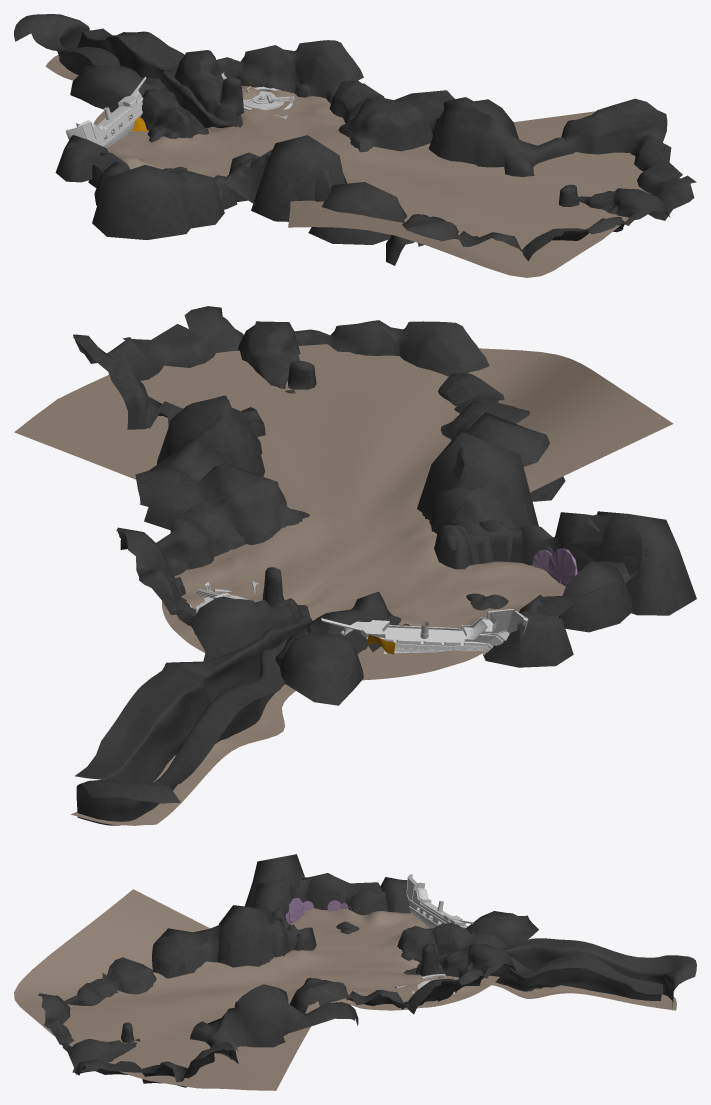
The model's file is EnvironmentMesh_Unwrapped.fbx.
3 views of the same model, one above another, from view 1: azimuth 30°, elevation 25°; view 2: azimuth 150°, elevation 25°; view 3: azimuth 270°, elevation 25° (orthographic). The views are drawn at different scales.
Parts seen in each view (by area): view 1: RockWallMesh, FloorMesh, polySurface35, TrenchWallMesh, ShipMesh, MainRuinBase; view 2: FloorMesh, RockWallMesh, polySurface35, TrenchWallMesh, ShipMesh, ClamShellMeshes; view 3: FloorMesh, RockWallMesh, polySurface35, TrenchWallMesh, ShipMesh, ClamShellMeshes.
Boxes of the visible parts, x1,y1,x2,y2 form: RockWallMesh: [66, 40, 696, 265]; FloorMesh: [45, 55, 650, 277]; polySurface35: [55, 135, 406, 244]; TrenchWallMesh: [14, 14, 243, 128]; ShipMesh: [65, 76, 146, 147]; MainRuinBase: [243, 91, 284, 110]; FloorMesh: [14, 344, 673, 825]; RockWallMesh: [73, 306, 647, 705]; polySurface35: [417, 412, 696, 667]; TrenchWallMesh: [75, 605, 312, 825]; ShipMesh: [321, 608, 528, 655]; ClamShellMeshes: [532, 548, 577, 586]; FloorMesh: [14, 889, 676, 1090]; RockWallMesh: [38, 859, 538, 1087]; polySurface35: [152, 854, 408, 978]; TrenchWallMesh: [403, 938, 696, 1010]; ShipMesh: [406, 874, 473, 928]; ClamShellMeshes: [285, 898, 313, 924].
Bounding box in the file's own units: 172 × 34.99 × 236.
